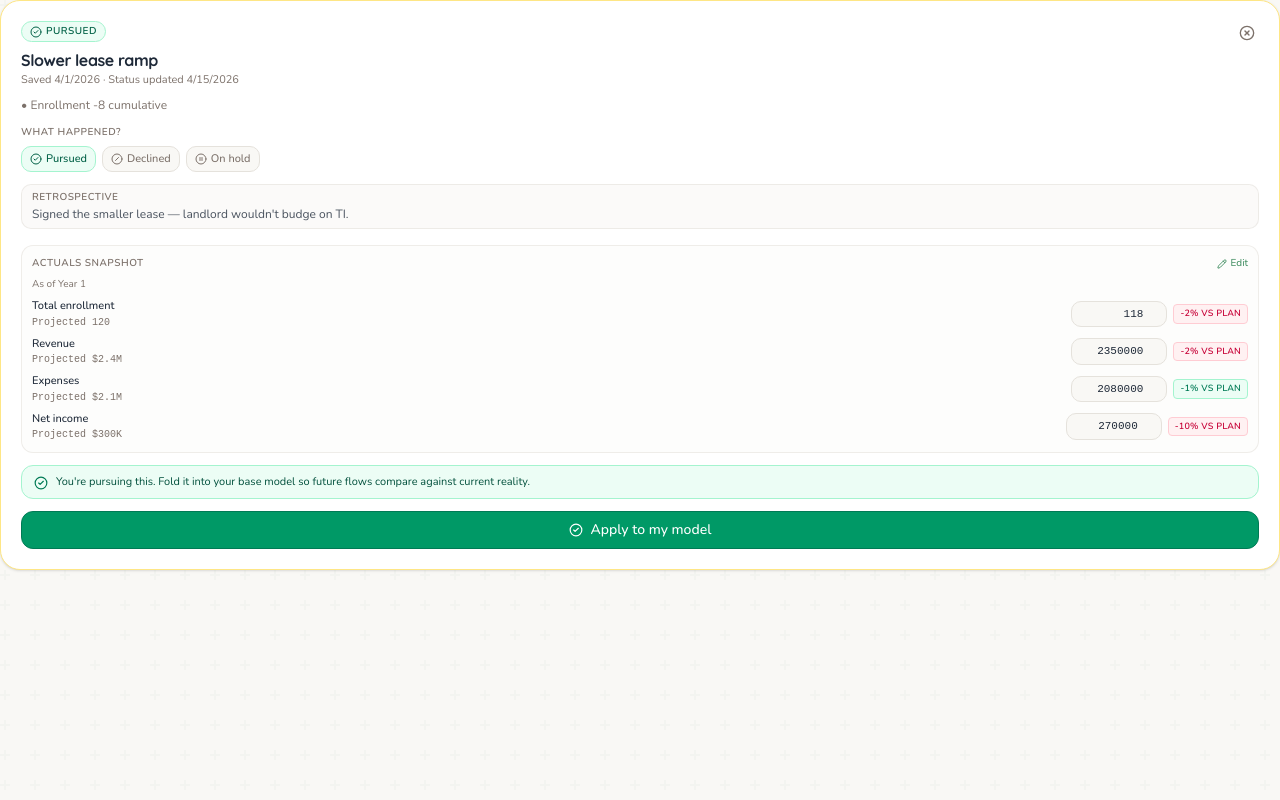
Scenario: CustomScenarioCard — delete confirmation (Task #369) › guards a Pursued scenario that already has actuals attached
Step 1. Click the button with test id "custom-scenario-delete-0" → x=1247, y=33, box [1235, 21, 1259, 45]
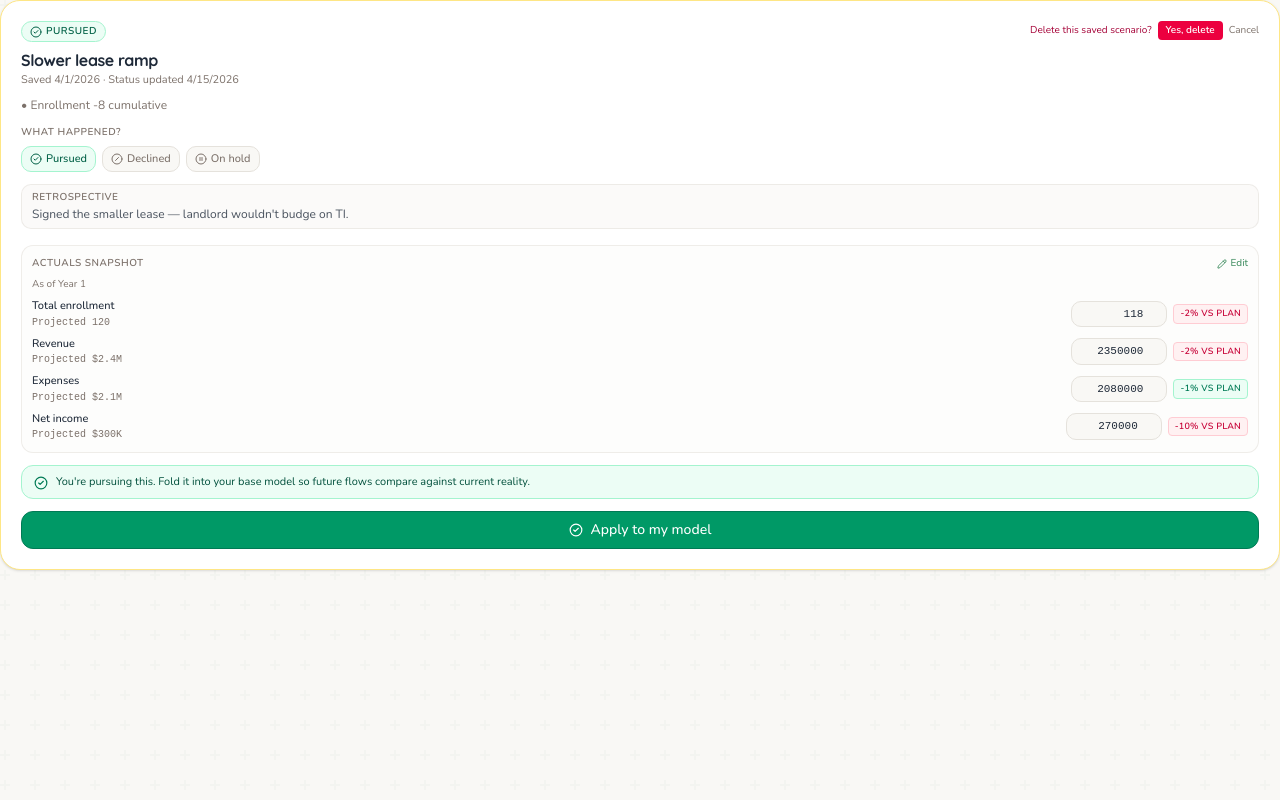
Check: the text "Delete this saved scenario?" is shown, box [1030, 23, 1152, 38]
